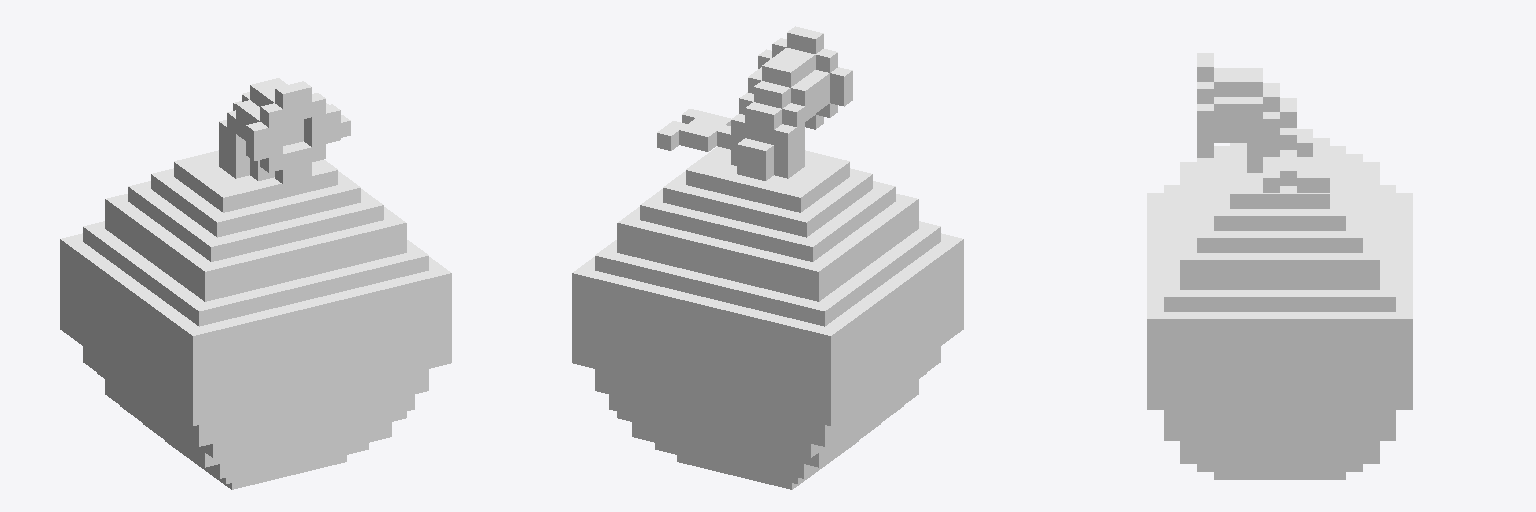
The model's file is monkayasoultrak.obj.
3 renders of one model, left to right at view 1: azimuth 30°, elevation 25°; view 2: azimuth 150°, elevation 25°; view 3: azimuth 270°, elevation 25°, orthographic.
Visible parts, largest first — view 1: object 1; view 2: object 1; view 3: object 1.
Boxes of the visible parts, <box> form: object 1: <box>60,78,451,489</box>; object 1: <box>572,26,963,489</box>; object 1: <box>1147,53,1412,479</box>.
Size of the model in its own units: 1.8 by 2.6 by 1.6.